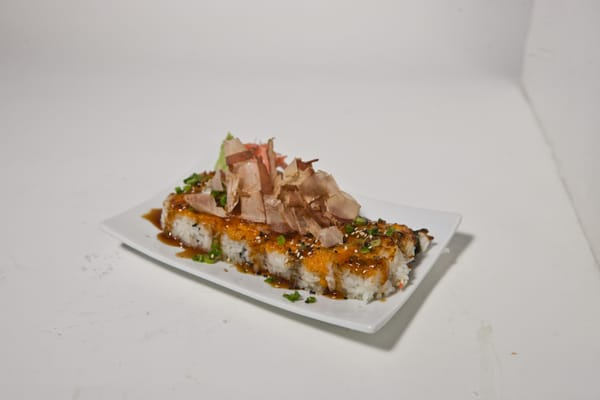sandwich: (158, 130, 440, 303)
